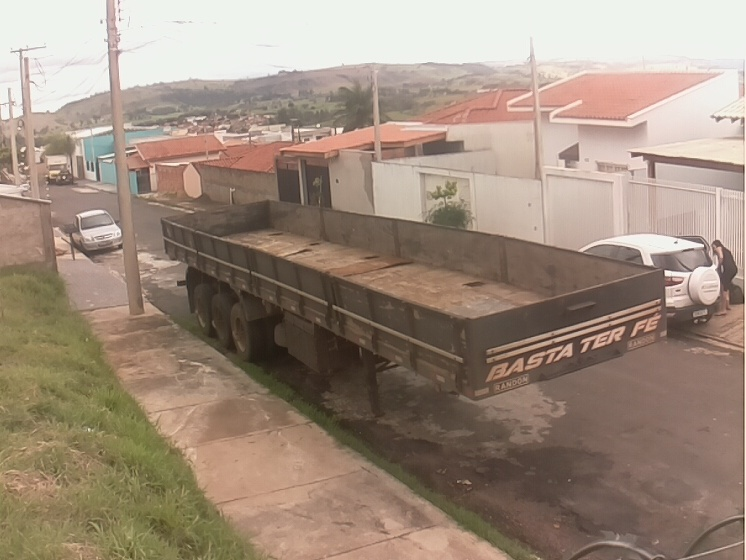person: (708, 237, 740, 321)
